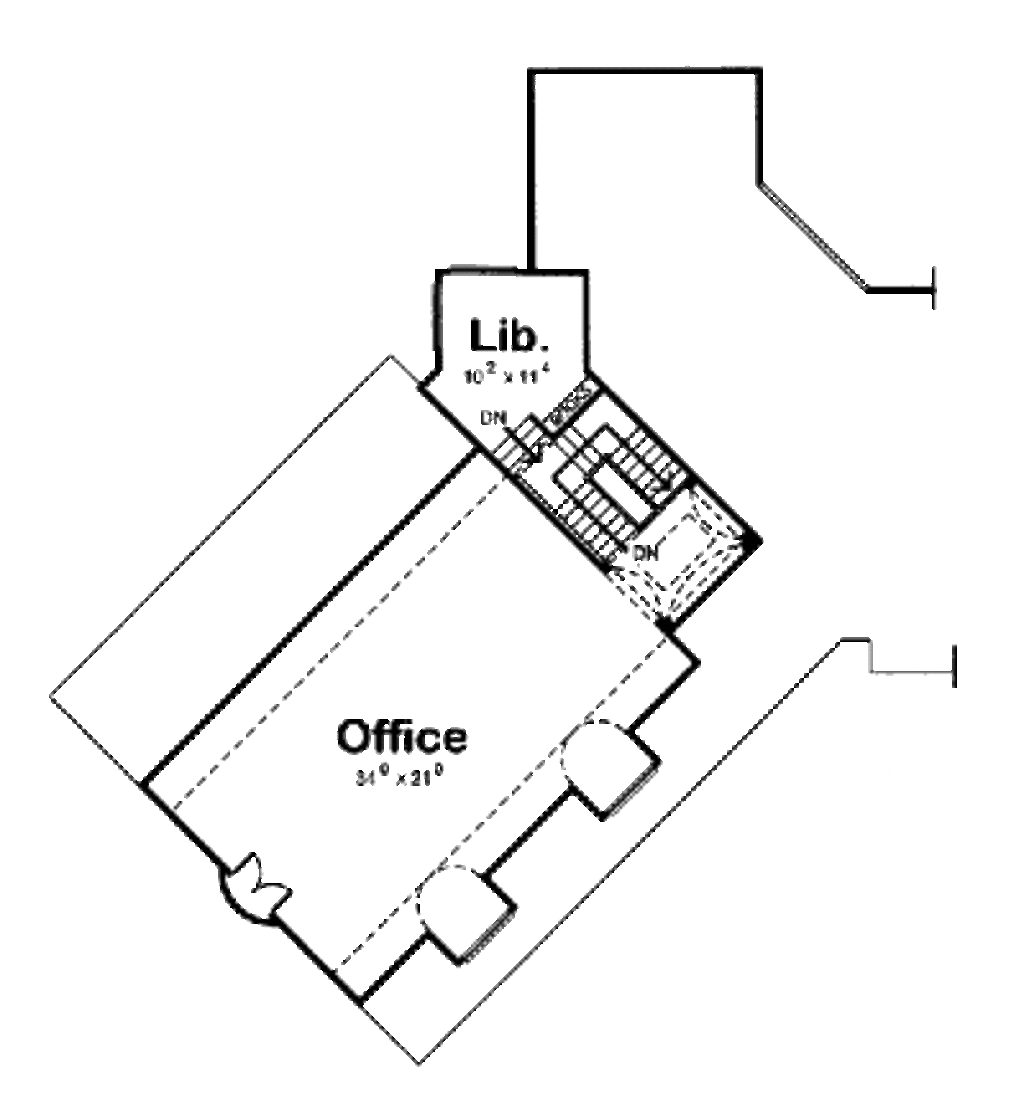door: (229, 847, 307, 922)
stairs: (477, 389, 765, 619)
